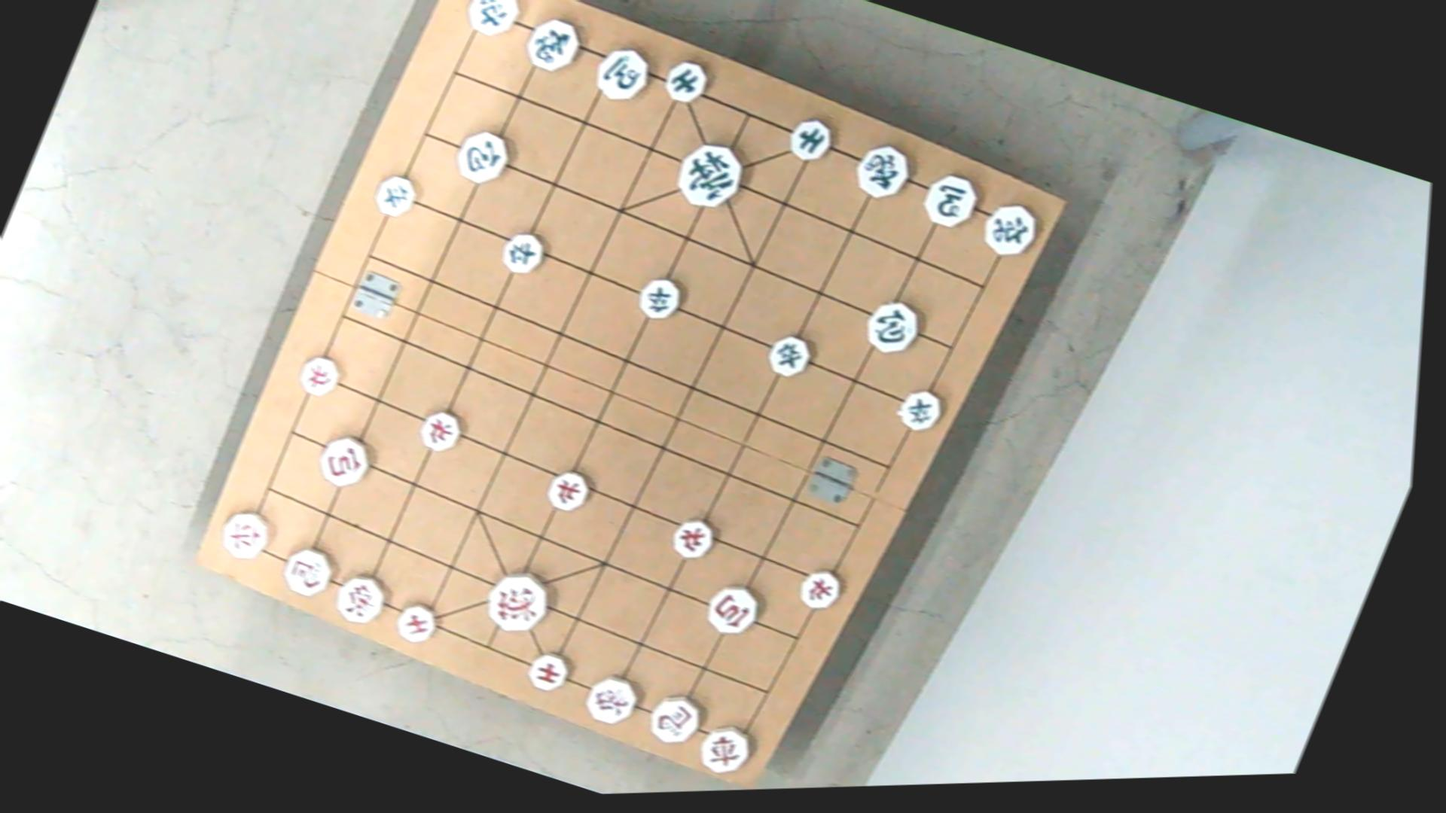cha_green: (975, 197, 1046, 261), (459, 0, 529, 40)
cha_red: (692, 720, 762, 779), (212, 506, 276, 562)
jol_green: (892, 385, 953, 436), (630, 273, 689, 323), (761, 330, 819, 380), (494, 228, 551, 277), (365, 173, 423, 221)
jol_red: (664, 516, 721, 565), (411, 407, 466, 455), (792, 566, 847, 614), (544, 466, 598, 513), (293, 352, 346, 398)
ma_green: (586, 42, 657, 106), (915, 169, 984, 230)
ma_red: (641, 688, 709, 748), (277, 541, 343, 599)
po_green: (856, 297, 926, 358), (449, 123, 517, 184)
po_red: (700, 578, 767, 638), (310, 431, 376, 490)
sa_green: (658, 56, 715, 107), (781, 115, 837, 166)
sa_red: (390, 601, 444, 648), (522, 653, 575, 697)
sang_green: (844, 138, 919, 208), (519, 15, 587, 78)
sang_red: (576, 669, 645, 729), (327, 569, 393, 629)
wang_green: (665, 136, 749, 214)
wang_red: (480, 566, 558, 636)
